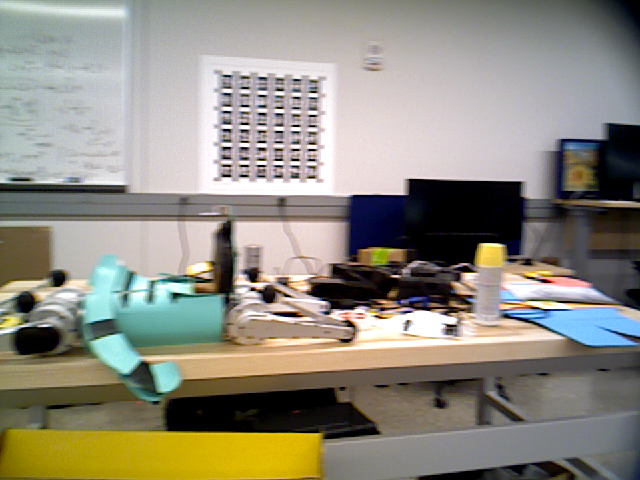painting4: (193, 64, 337, 192)
